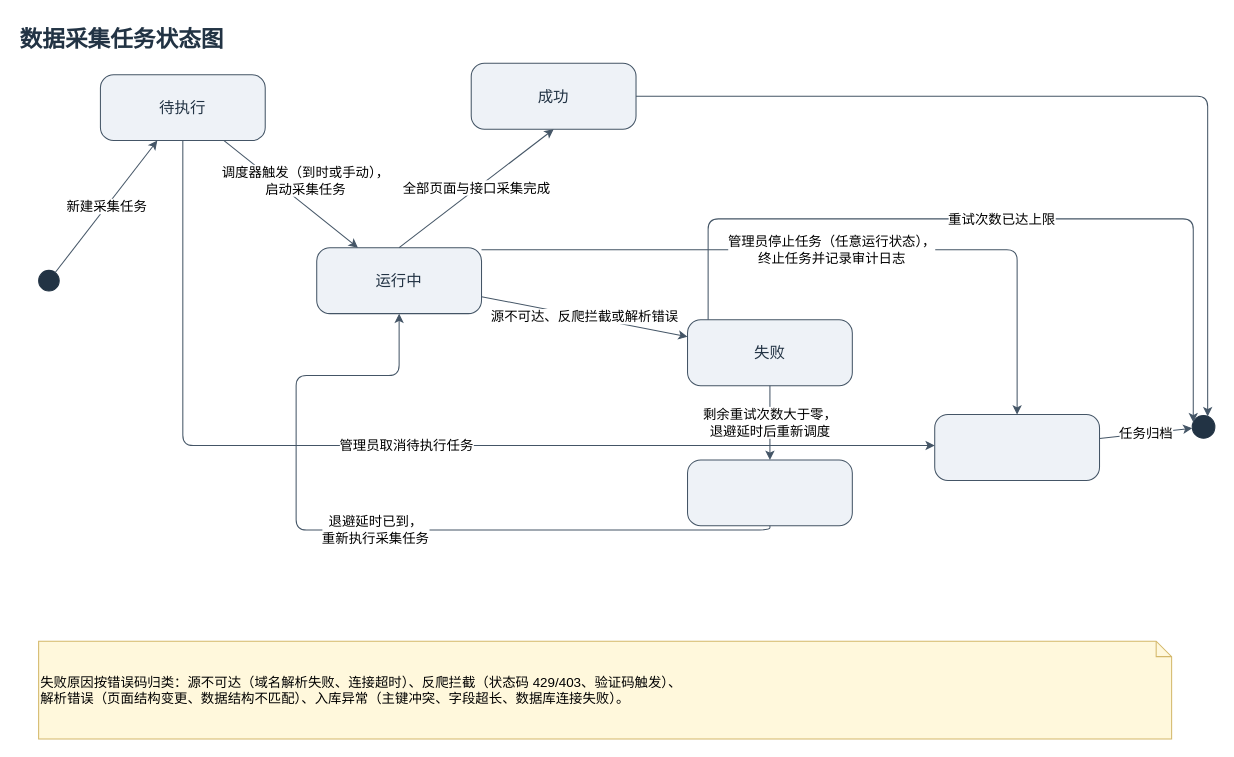
The diagram is 1234 pixels wide and 757 high, and some of its shapes have lost their labels. Here are the shapes that lost their labels. From the top down, the centre of each, then its label:
the point at 1017,447: 已停止
the point at 769,492: 重试
